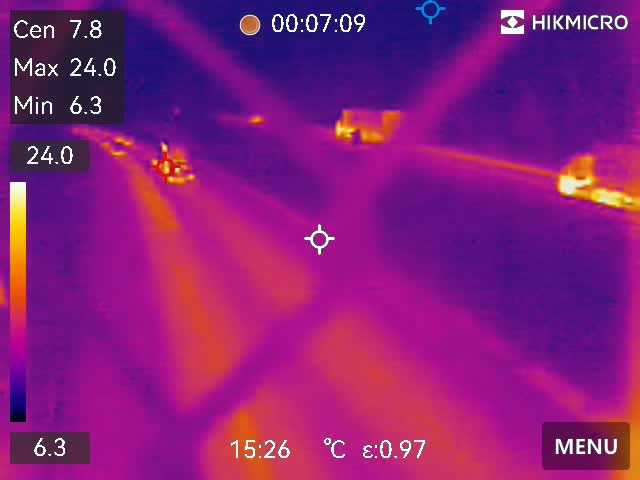heavyTruck: (555, 144, 640, 212), (333, 107, 403, 143), (147, 144, 202, 185)
